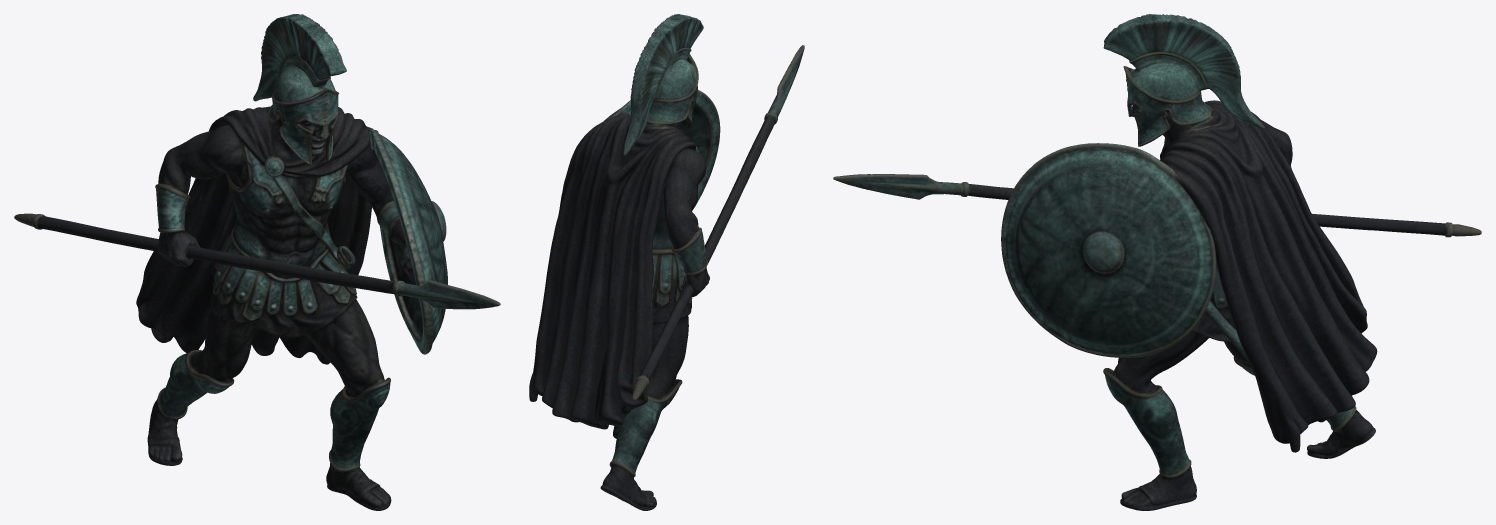
Rendered from toxic-mercenary.glb.
The picture shows the model from 3 angles, left to right: view 1: azimuth 30°, elevation 25°; view 2: azimuth 150°, elevation 25°; view 3: azimuth 270°, elevation 25°; orthographic projection. The views are drawn at different scales.
Bounding box in the file's own units: 0.7681 × 1.5 × 1.91.
Materials: 1 (1 with a texture image).
